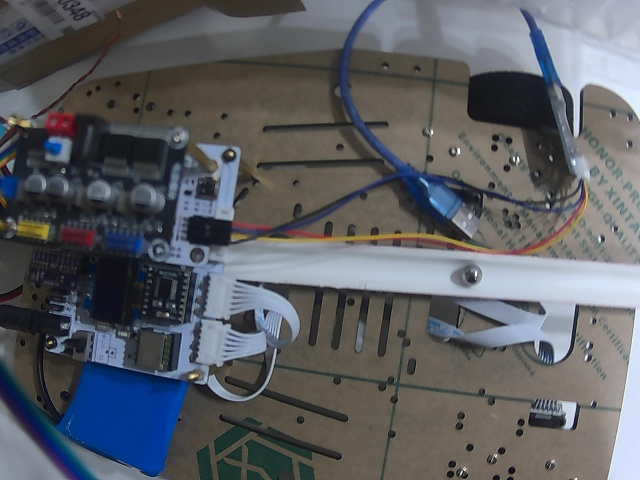steelball: (461, 265, 483, 285)
